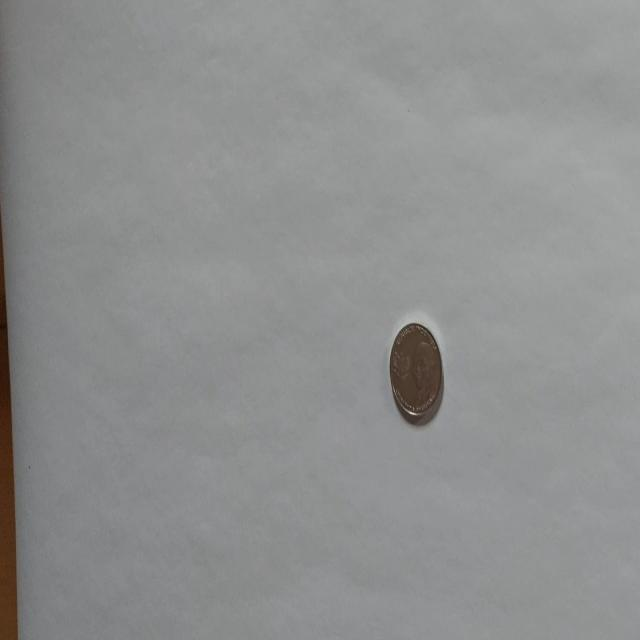lima ratus rupiah: (388, 320, 444, 424)
